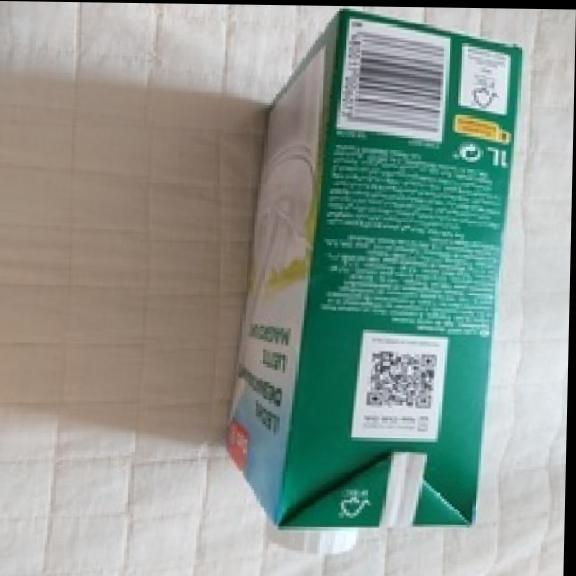Kertas: (227, 11, 521, 526)
